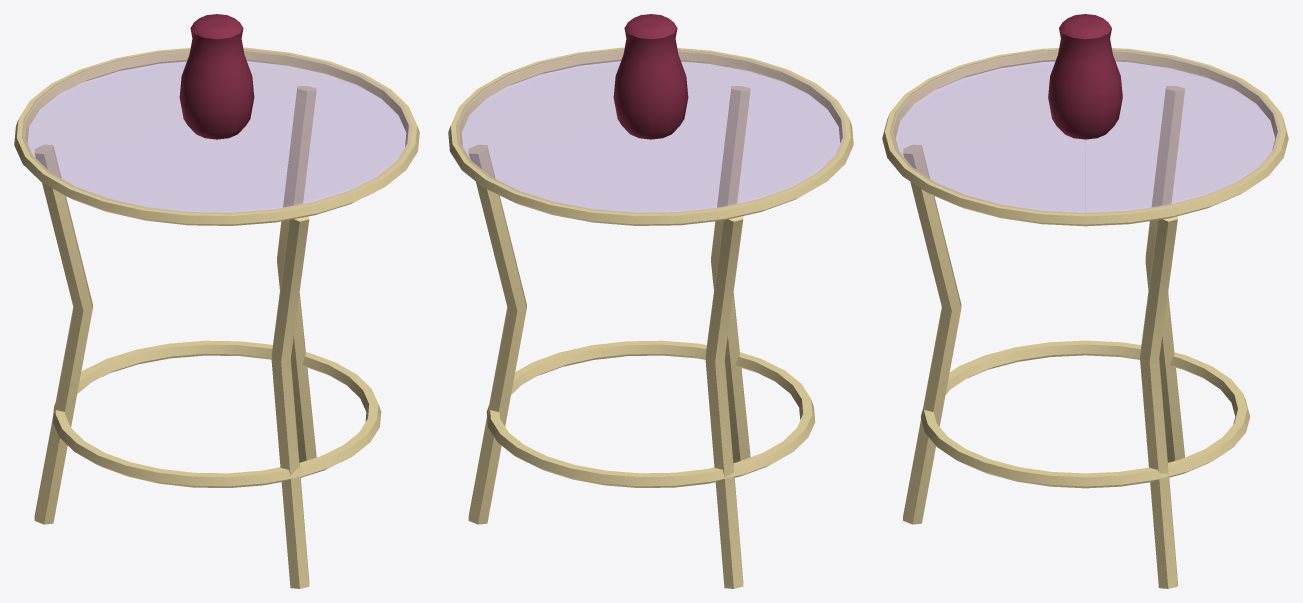
File: table_side_gold_glass.glb
3 views of the same model, side by side, from view 1: azimuth 30°, elevation 25°; view 2: azimuth 150°, elevation 25°; view 3: azimuth 270°, elevation 25° (orthographic).
Visible parts, largest first — view 1: table_side_gold_glass; view 2: table_side_gold_glass; view 3: table_side_gold_glass.
Boxes of the visible parts, <box> form: table_side_gold_glass: <box>14,14,419,588</box>; table_side_gold_glass: <box>448,14,853,588</box>; table_side_gold_glass: <box>882,14,1288,588</box>.
Bounding box in the file's own units: 0.5171 × 0.702 × 0.5171.
